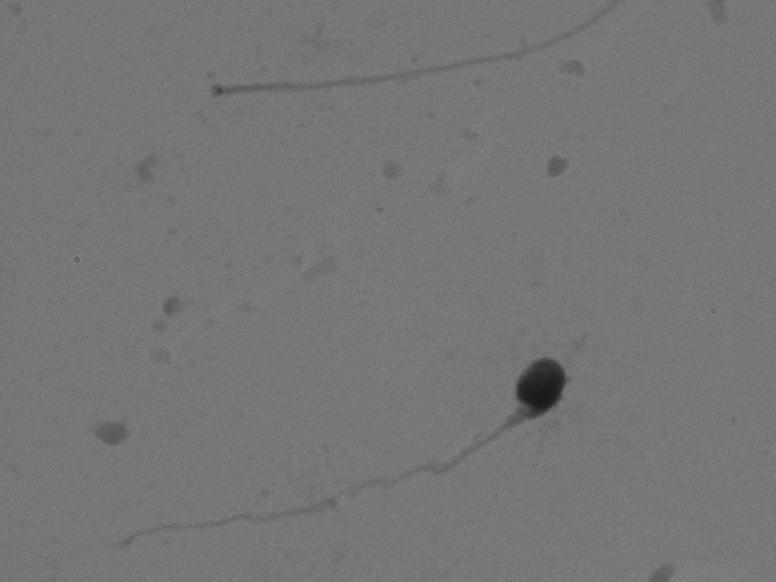Abnormal: (55, 341, 610, 547)
